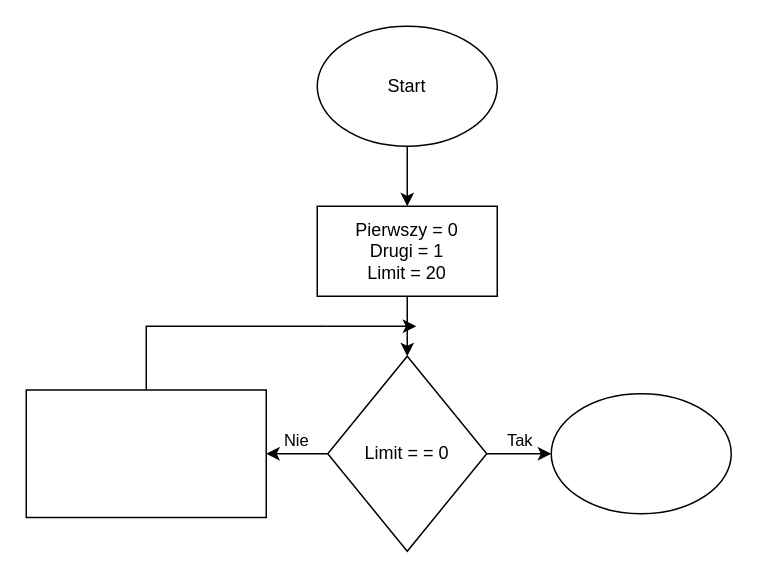
Image size: 758x578. Some labels were removed from this diagram. The centre of each missing label's shape, as x and y in pixels:
"Stop" goes at (640,453).
"t = pierwszy + drugi limit - 1 Wyświetl t Pierwszy = drugi Drugi = t" goes at (145,453).
